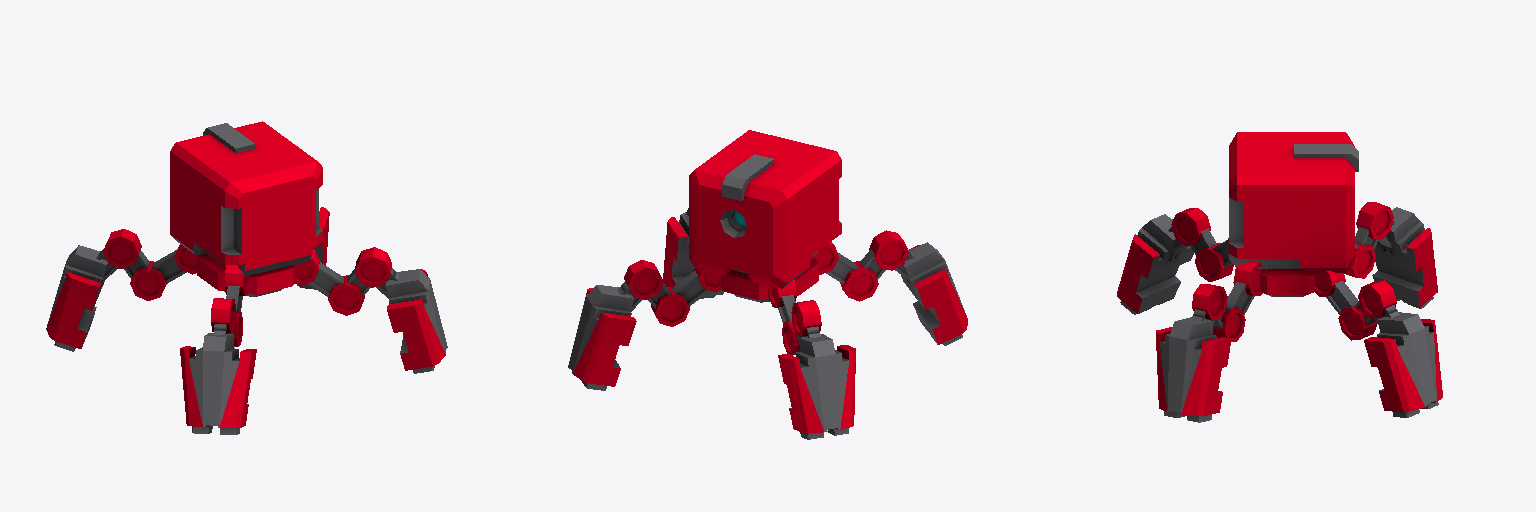
3 renders of one model, left to right at view 1: azimuth 30°, elevation 25°; view 2: azimuth 150°, elevation 25°; view 3: azimuth 270°, elevation 25°, orthographic.
Parts seen in each view (by area): view 1: Box006, Object021, Object017, Object025, Object020, Object028, Object027, Object018, Object019, Object026, Object024, Object022 (+1 smaller); view 2: Box006, Object025, Object013, Object021, Object017, Object016, Object023, Object024, Object015, Object014, Object028, Object022 (+1 smaller); view 3: Box006, Object017, Object013, Object021, Object025, Object016, Object018, Object023, Object024, Object020, Object014, Object028 (+3 smaller).
Boxes of the visible parts, x1=… form: Box006: x1=170, y1=121, x2=322, y2=296; Object021: x1=180, y1=333, x2=256, y2=434; Object017: x1=386, y1=269, x2=447, y2=373; Object025: x1=46, y1=245, x2=107, y2=351; Object020: x1=355, y1=247, x2=398, y2=298; Object028: x1=96, y1=229, x2=141, y2=280; Object027: x1=123, y1=250, x2=166, y2=300; Object018: x1=295, y1=249, x2=343, y2=296; Object019: x1=328, y1=269, x2=370, y2=315; Object026: x1=151, y1=243, x2=206, y2=283; Object024: x1=211, y1=298, x2=235, y2=334; Object022: x1=225, y1=265, x2=247, y2=312; Box006: x1=689, y1=130, x2=841, y2=302; Object025: x1=778, y1=334, x2=855, y2=439; Object013: x1=568, y1=285, x2=636, y2=390; Object021: x1=901, y1=242, x2=967, y2=345; Object017: x1=663, y1=208, x2=723, y2=298; Object016: x1=618, y1=260, x2=663, y2=311; Object023: x1=840, y1=249, x2=885, y2=301; Object024: x1=869, y1=230, x2=914, y2=280; Object015: x1=648, y1=283, x2=689, y2=326; Object014: x1=672, y1=268, x2=721, y2=306; Object028: x1=791, y1=300, x2=821, y2=338; Object022: x1=811, y1=241, x2=858, y2=283; Box006: x1=1229, y1=132, x2=1358, y2=296; Object017: x1=1156, y1=317, x2=1231, y2=422; Object013: x1=1364, y1=312, x2=1442, y2=417; Object021: x1=1117, y1=214, x2=1193, y2=314; Object025: x1=1372, y1=207, x2=1437, y2=308; Object016: x1=1358, y1=280, x2=1399, y2=324; Object018: x1=1227, y1=261, x2=1267, y2=314; Object023: x1=1190, y1=228, x2=1233, y2=281; Object024: x1=1168, y1=208, x2=1210, y2=254; Object020: x1=1191, y1=284, x2=1227, y2=324; Object014: x1=1314, y1=271, x2=1357, y2=314; Object028: x1=1356, y1=202, x2=1394, y2=247.
Bounding box in the file's own units: 157 × 109 × 153.
Materials: 1 (1 with a texture image).